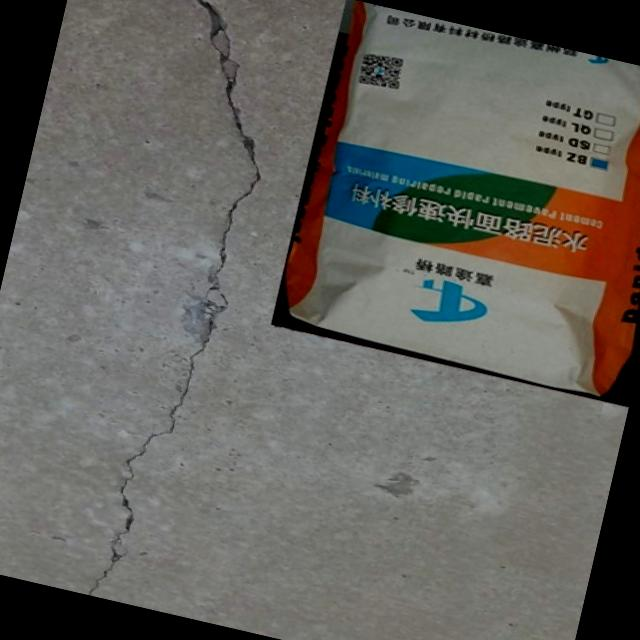crack: (37, 0, 307, 611)
